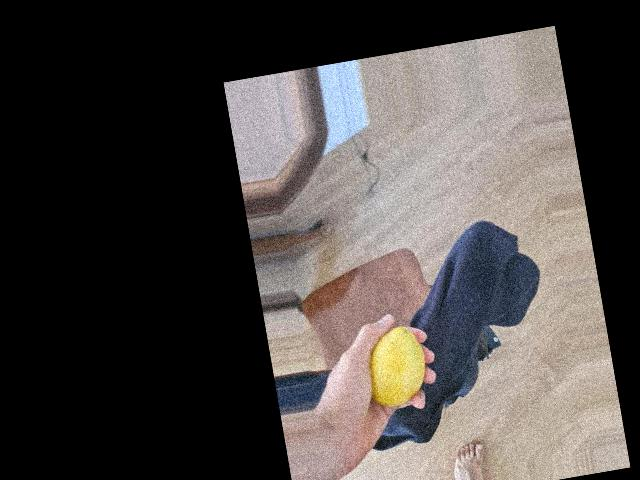lemon: (361, 324, 429, 409)
